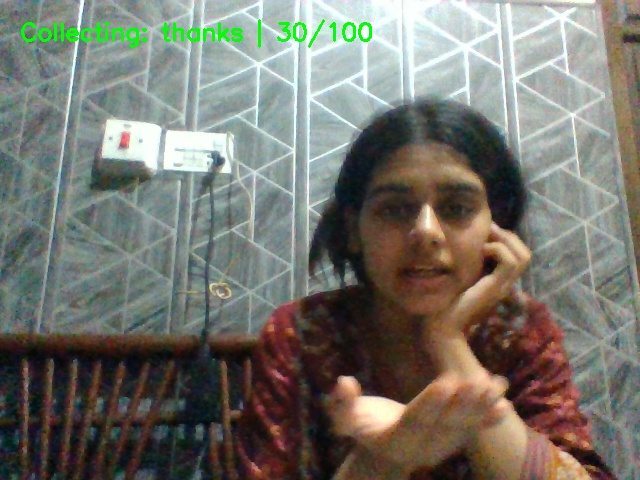thanks: (299, 329, 554, 480)
